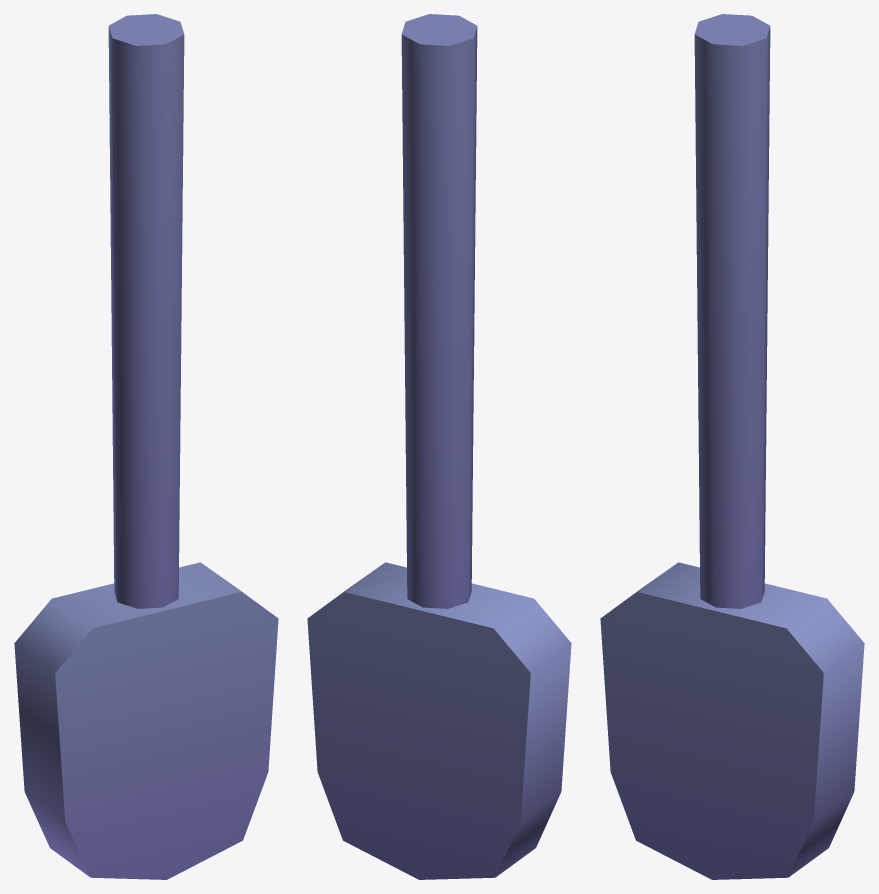
The model's file is tool-paddle.fbx.
3 renders of one model, left to right at view 1: azimuth 30°, elevation 25°; view 2: azimuth 150°, elevation 25°; view 3: azimuth 330°, elevation 25°, orthographic.
Visible parts, largest first — view 1: tool-paddle; view 2: tool-paddle; view 3: tool-paddle.
Part boxes in pixels (x1,y1,x2,y2): tool-paddle: (14,14,278,879); tool-paddle: (307,14,571,879); tool-paddle: (600,14,864,879).
Size of the model in its own units: 65.78 by 235 by 20.75.
